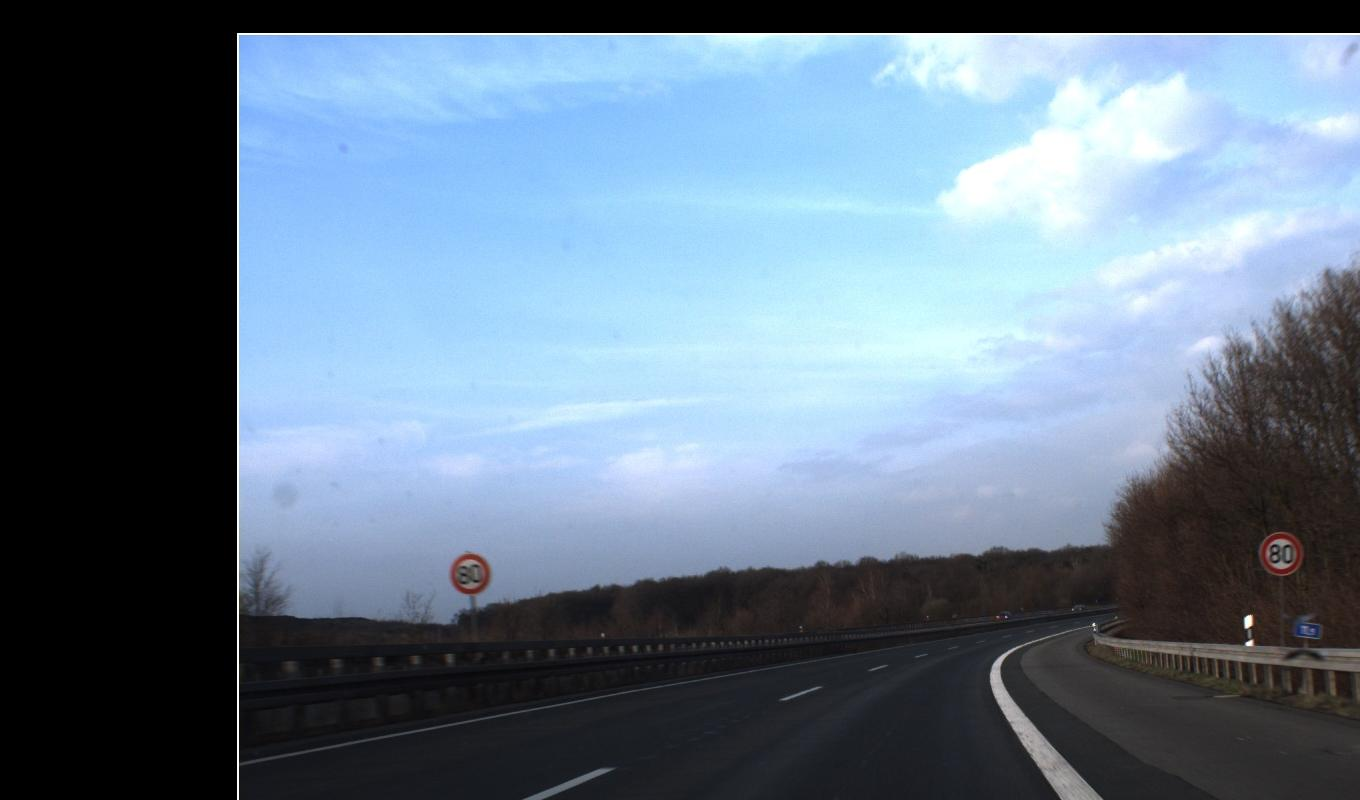NO-speed limit 80: (450, 531, 1303, 594)
